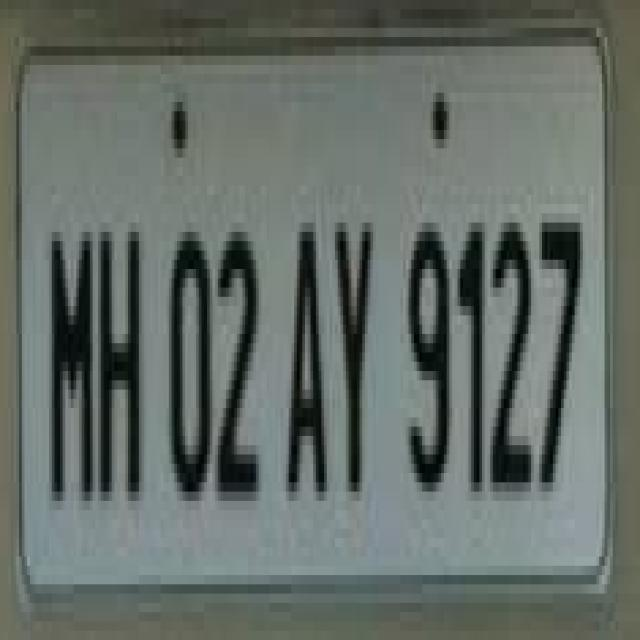license_plate: (6, 19, 604, 612)
